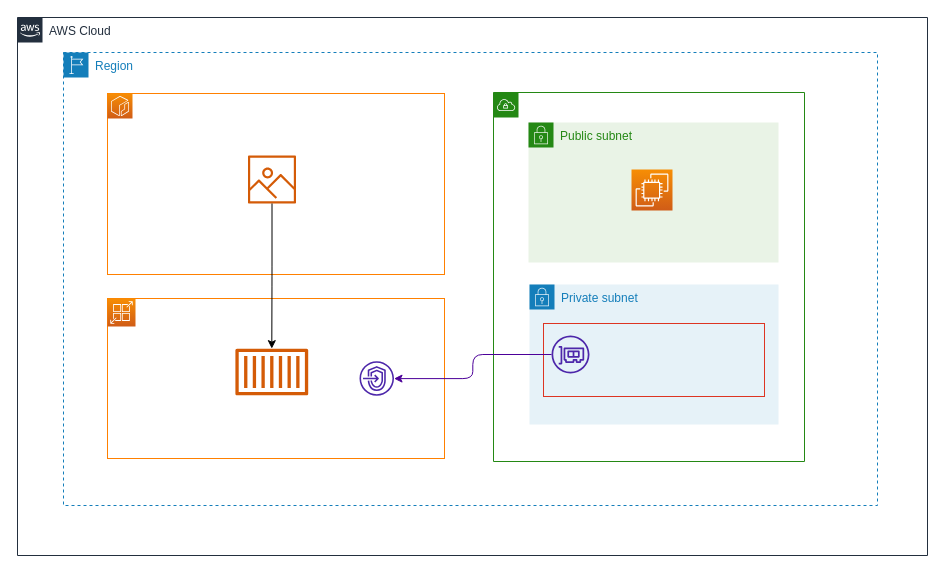
This 945x573 diagram has some shape labels left out. The box of each missing label's shape, as (x1, y1, x2, y2) in pixels:
Security group: (542, 322, 764, 396)
VPC: (492, 92, 804, 462)
